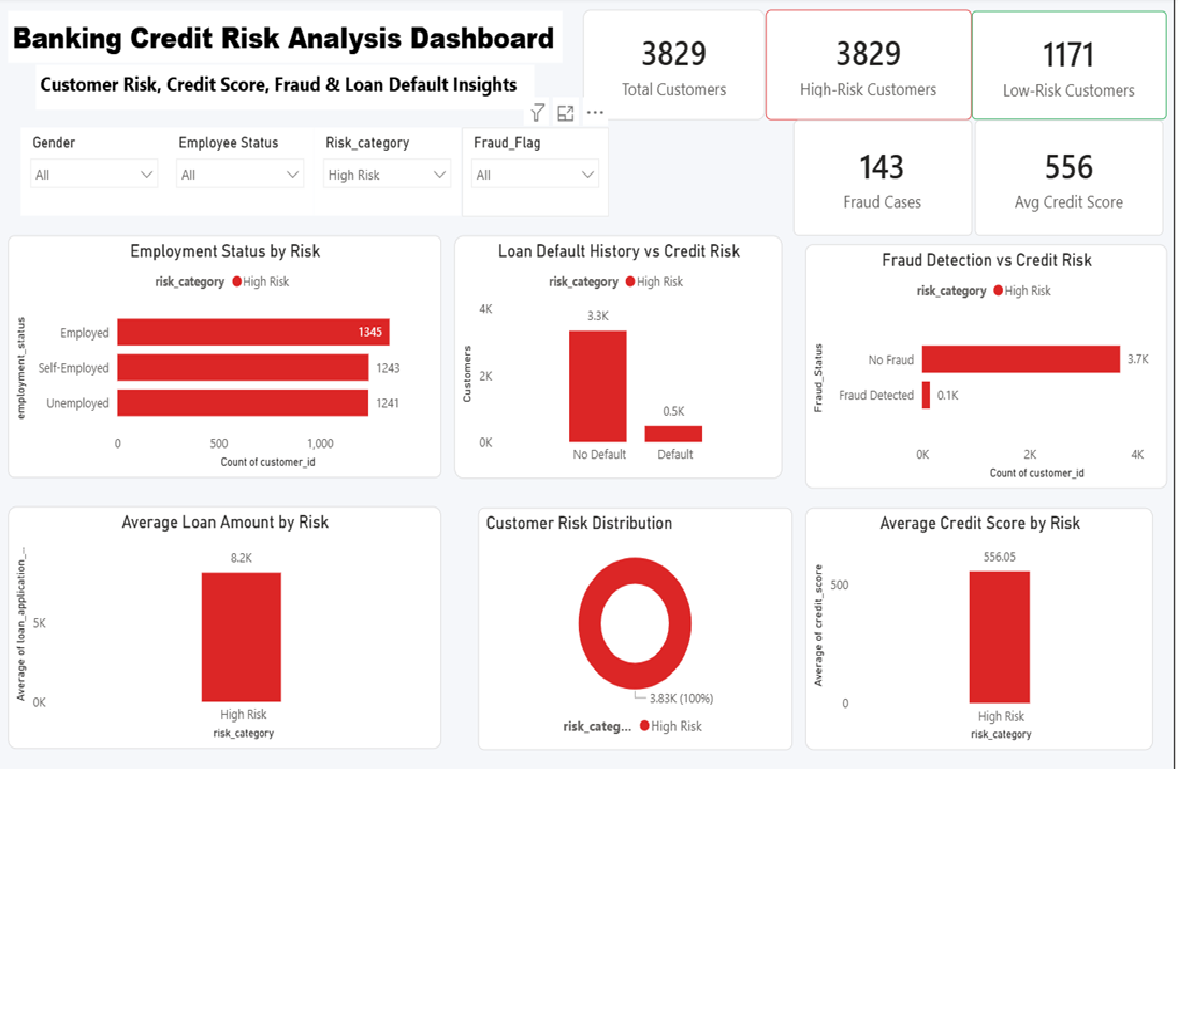

The dashboard page shown, as its layout file describes it:
{"tool":"powerbi","page":{"name":"Page 1","canvas":[1280,720],"ordinal":0},"visuals":[{"type":"textbox","box":[15.1,12.3,601,48],"z":0},{"type":"cardVisual","fields":{"Data":["Count(credit_risk_dataset.Column1)"]},"box":[638.9,11.9,197.1,102.1],"z":1000},{"type":"cardVisual","fields":{"Data":["credit_risk_dataset.High Risk Customers"]},"box":[836.1,11.9,223.3,102.1],"z":2000},{"type":"cardVisual","fields":{"Data":["credit_risk_dataset.Fraud Cases"]},"box":[865.8,114,193.6,106.9],"z":3000},{"type":"cardVisual","fields":{"Data":["credit_risk_dataset.Low Risk Customers"]},"box":[1059.3,13.1,211.4,100.9],"z":4000},{"type":"cardVisual","fields":{"Data":["credit_risk_dataset.Avg Credit Score"]},"box":[1062.9,114,204.3,106.9],"z":5000},{"type":"donutChart","title":"Customer Risk Distribution","fields":{"Category":["credit_risk_dataset.risk_category"],"Y":["Count(credit_risk_dataset.Column1)"]},"box":[524.8,472.7,340.5,225.1],"z":6000},{"type":"clusteredColumnChart","title":"Average Credit Score by Risk","fields":{"Category":["credit_risk_dataset.risk_category"],"Y":["Avg(credit_risk_dataset.credit_score)"]},"box":[879.3,472.7,377.1,225.1],"z":7000},{"type":"columnChart","title":"Loan Default History vs Credit Risk","fields":{"Series":["credit_risk_dataset.risk_category"],"Y":["CountNonNull(credit_risk_dataset.Column1)"],"Category":["credit_risk_dataset.Loan_Default_Status"]},"box":[498.8,220.9,355.1,225.6],"z":8000},{"type":"barChart","title":"Fraud Detection vs Credit Risk","fields":{"Series":["credit_risk_dataset.risk_category"],"Y":["CountNonNull(credit_risk_dataset.customer_id)"],"Category":["credit_risk_dataset.Fraud_Status"]},"box":[879.1,229.1,391.9,226.7],"z":9000},{"type":"barChart","title":"Employment Status by Risk","fields":{"Category":["credit_risk_dataset.employment_status"],"Series":["credit_risk_dataset.risk_category"],"Y":["CountNonNull(credit_risk_dataset.customer_id)"]},"box":[15.1,220.9,469.3,225],"z":10000},{"type":"clusteredColumnChart","title":"Average Loan Amount by Risk","fields":{"Category":["credit_risk_dataset.risk_category"],"Y":["Avg(credit_risk_dataset.loan_application_amount)"]},"box":[15.1,472,469.3,225],"z":11000},{"type":"slicer","fields":{"Values":["credit_risk_dataset.gender"]},"box":[28.5,121.1,159.1,81.9],"z":12000},{"type":"slicer","fields":{"Values":["credit_risk_dataset.fraud_flag"]},"box":[507.1,121.1,159.1,81.9],"z":13000},{"type":"slicer","fields":{"Values":["credit_risk_dataset.employment_status"]},"box":[187.6,121.1,159.1,81.9],"z":14000},{"type":"slicer","fields":{"Values":["credit_risk_dataset.risk_category"]},"box":[346.8,121.1,159.1,81.9],"z":15000},{"type":"textbox","box":[45.1,62.9,540.4,41.6],"z":16000}]}

Visuals, with their boxes on the page's 1280x720 design canvas (x1, y1, x2, y2). These are canvas units, not pixel positions in the 1198x1011 screenshot, which may show the page scaled, cropped or inside an application window:
textbox: Rect(15, 12, 616, 60)
cardVisual - Count(credit_risk_dataset.Column1): Rect(639, 12, 836, 114)
cardVisual - credit_risk_dataset.High Risk Customers: Rect(836, 12, 1059, 114)
cardVisual - credit_risk_dataset.Fraud Cases: Rect(866, 114, 1059, 221)
cardVisual - credit_risk_dataset.Low Risk Customers: Rect(1059, 13, 1271, 114)
cardVisual - credit_risk_dataset.Avg Credit Score: Rect(1063, 114, 1267, 221)
"Customer Risk Distribution" donutChart: Rect(525, 473, 865, 698)
"Average Credit Score by Risk" clusteredColumnChart: Rect(879, 473, 1256, 698)
"Loan Default History vs Credit Risk" columnChart: Rect(499, 221, 854, 446)
"Fraud Detection vs Credit Risk" barChart: Rect(879, 229, 1271, 456)
"Employment Status by Risk" barChart: Rect(15, 221, 484, 446)
"Average Loan Amount by Risk" clusteredColumnChart: Rect(15, 472, 484, 697)
slicer - credit_risk_dataset.gender: Rect(28, 121, 188, 203)
slicer - credit_risk_dataset.fraud_flag: Rect(507, 121, 666, 203)
slicer - credit_risk_dataset.employment_status: Rect(188, 121, 347, 203)
slicer - credit_risk_dataset.risk_category: Rect(347, 121, 506, 203)
textbox: Rect(45, 63, 586, 104)
